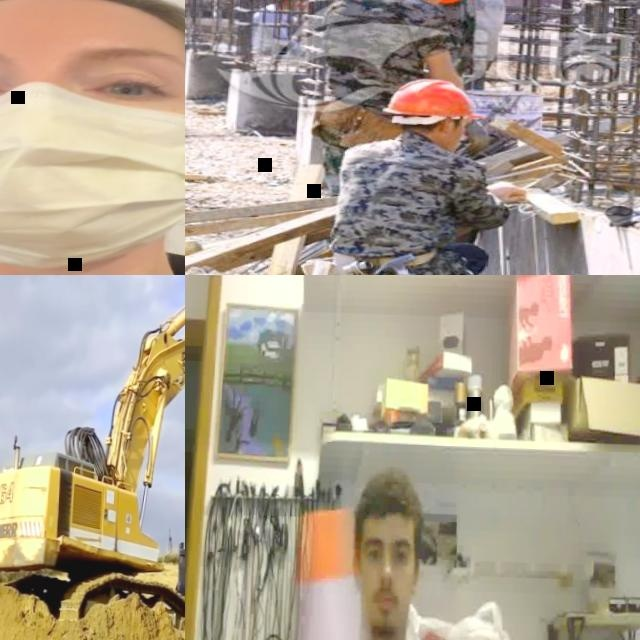Hardhat: (385, 74, 490, 127)
Mask: (0, 92, 185, 273)
NO-Hardhat: (0, 0, 185, 55), (358, 472, 421, 527)
NO-Mask: (369, 590, 407, 635), (444, 129, 464, 151), (416, 0, 446, 6)
NO-Safety Vest: (329, 138, 479, 275), (304, 0, 440, 114), (253, 9, 297, 56)
Person: (0, 0, 185, 275), (315, 78, 550, 275), (248, 467, 481, 640), (308, 0, 469, 181), (254, 0, 310, 66)
Safety Cone: (253, 501, 428, 640)
machinery: (0, 275, 185, 634)
